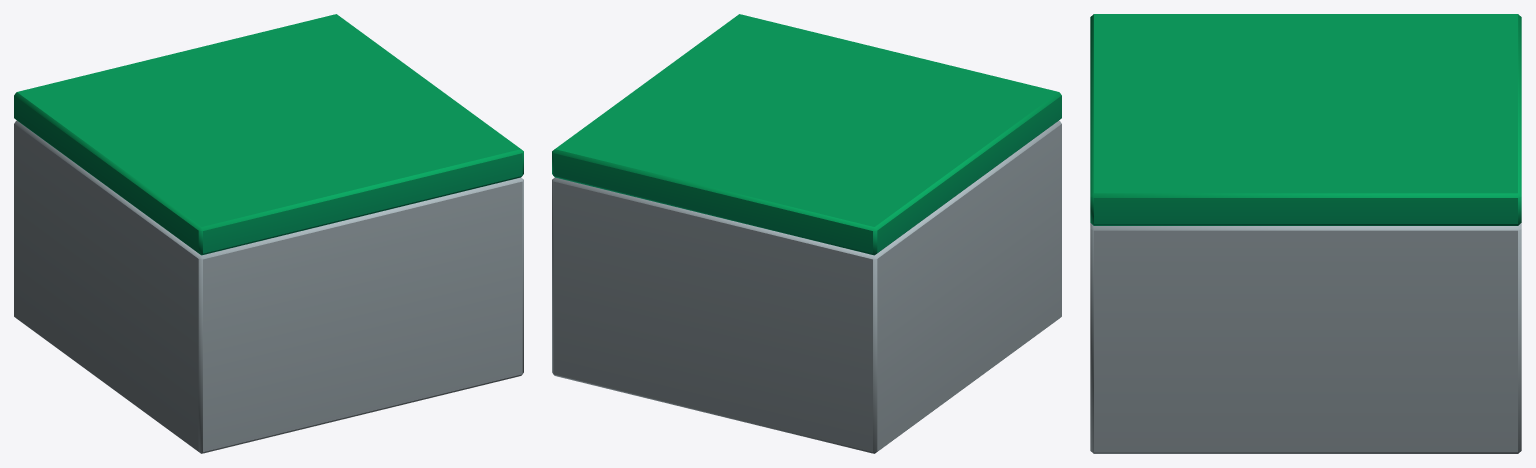
The model's file is platform_6x6x4_green.glb.
3 renders of one model, left to right at view 1: azimuth 30°, elevation 25°; view 2: azimuth 150°, elevation 25°; view 3: azimuth 270°, elevation 25°, orthographic. The views are drawn at different scales.
Parts seen in each view (by area): view 1: platform_6x6x4_green; view 2: platform_6x6x4_green; view 3: platform_6x6x4_green.
Boxes of the visible parts, x1,y1,x2,y2 form: platform_6x6x4_green: [14, 14, 523, 453]; platform_6x6x4_green: [552, 14, 1061, 453]; platform_6x6x4_green: [1090, 14, 1521, 453].
Size of the model in its own units: 6 by 4 by 6.
1 material, 1 textured.
